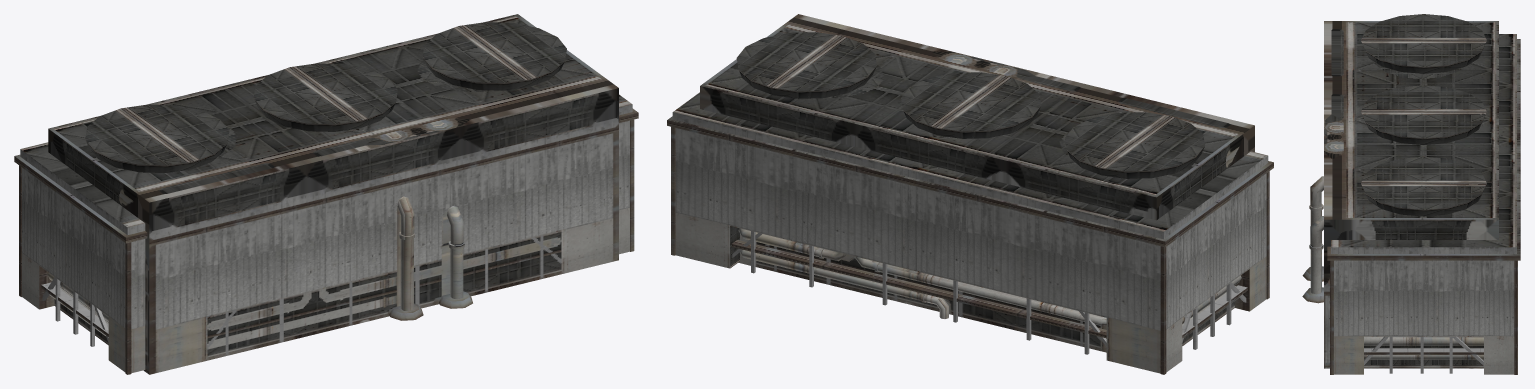
File: dz_industrial_02.fbx
3 renders of one model, left to right at view 1: azimuth 30°, elevation 25°; view 2: azimuth 150°, elevation 25°; view 3: azimuth 270°, elevation 25°, orthographic. The views are drawn at different scales.
Parts seen in each view (by area): view 1: dz_industrial_02_LOD0; view 2: dz_industrial_02_LOD0; view 3: dz_industrial_02_LOD0.
Part boxes in pixels (x1,y1,x2,y2): dz_industrial_02_LOD0: (14, 14, 638, 374); dz_industrial_02_LOD0: (667, 14, 1273, 374); dz_industrial_02_LOD0: (1302, 14, 1520, 374).
Size of what is drawn, in the model's own units: 28.68 by 9.71 by 12.21.
Materials: 2 (2 with a texture image).
